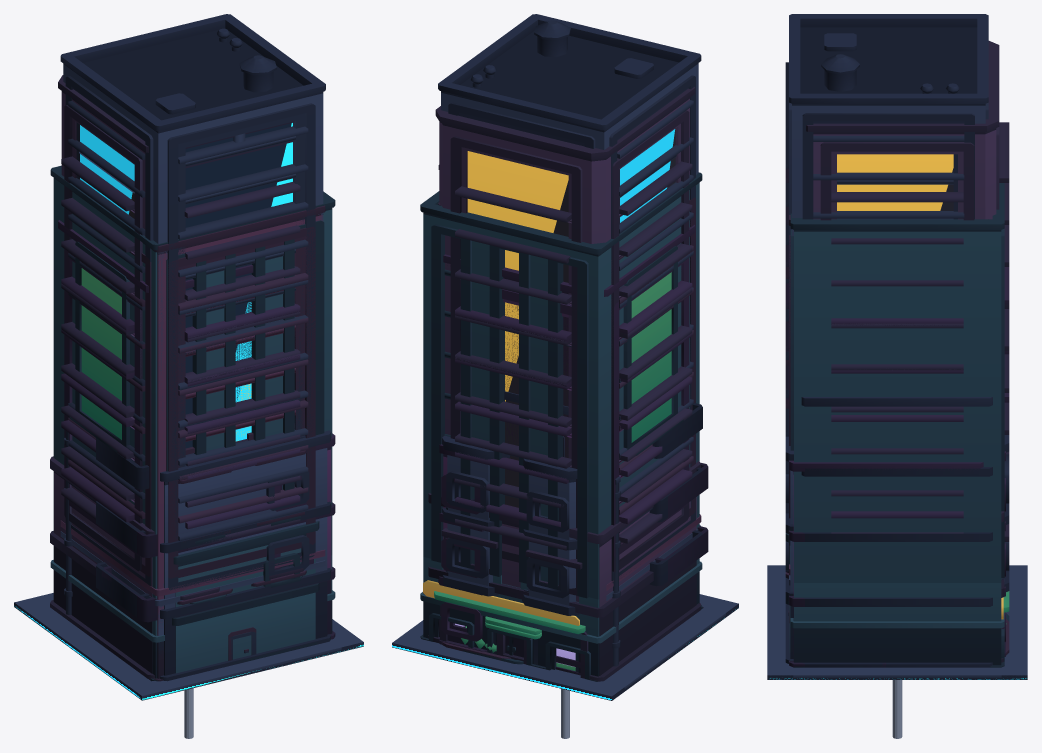
Rendered from ciudad.glb.
3 renders of one model, left to right at view 1: azimuth 30°, elevation 25°; view 2: azimuth 150°, elevation 25°; view 3: azimuth 270°, elevation 25°, orthographic. The views are drawn at different scales.
Visible parts, largest first — view 1: torre_d, torre_e, torre_c, torre_b, edificio_a, edificio_c, torre_a, edificio_d, edificio_g, edificio_b, calle_fin, calle_sola (+3 smaller); view 2: torre_e, torre_b, torre_d, torre_a, edificio_d, edificio_a, edificio_b, edificio_g, torre_c, calle_t, calle_fin, edificio_h; view 3: torre_e, torre_d, torre_b, edificio_g, calle_sola, torre_a, calle_cebra, edificio_b, edificio_a, torre_c, meta, calle_curva.
Part boxes in pixels (x1,y1,x2,y2): torre_d: (60,14,325,659); torre_e: (50,165,335,681); torre_c: (60,205,325,681); torre_b: (58,75,300,571); edificio_a: (64,430,331,681); edificio_c: (172,521,319,673); torre_a: (58,220,300,555); edificio_d: (50,439,303,679); edificio_g: (96,436,305,617); edificio_b: (101,433,335,639); calle_fin: (14,603,352,699); calle_sola: (27,593,359,695); torre_e: (420,172,702,681); torre_b: (435,87,695,675); torre_d: (438,14,701,665); torre_a: (443,225,695,673); edificio_d: (428,461,700,681); edificio_a: (442,435,620,666); edificio_b: (438,444,708,652); edificio_g: (423,391,702,625); torre_c: (438,197,701,634); calle_t: (392,598,738,700); calle_fin: (579,594,737,688); edificio_h: (434,591,585,672); torre_e: (790,183,1004,667); torre_d: (785,14,988,615); torre_b: (785,41,1009,533); edificio_g: (801,397,1003,667); calle_sola: (767,567,1027,679); torre_a: (785,267,1009,518); calle_cebra: (767,565,1027,679); edificio_b: (789,451,1005,667); edificio_a: (785,435,1009,663); torre_c: (785,215,988,623); meta: (892,680,902,738); calle_curva: (767,565,1026,675).
Size of the model in its own units: 1 by 2.97 by 1.
Materials: 17 (9 with a texture image).
